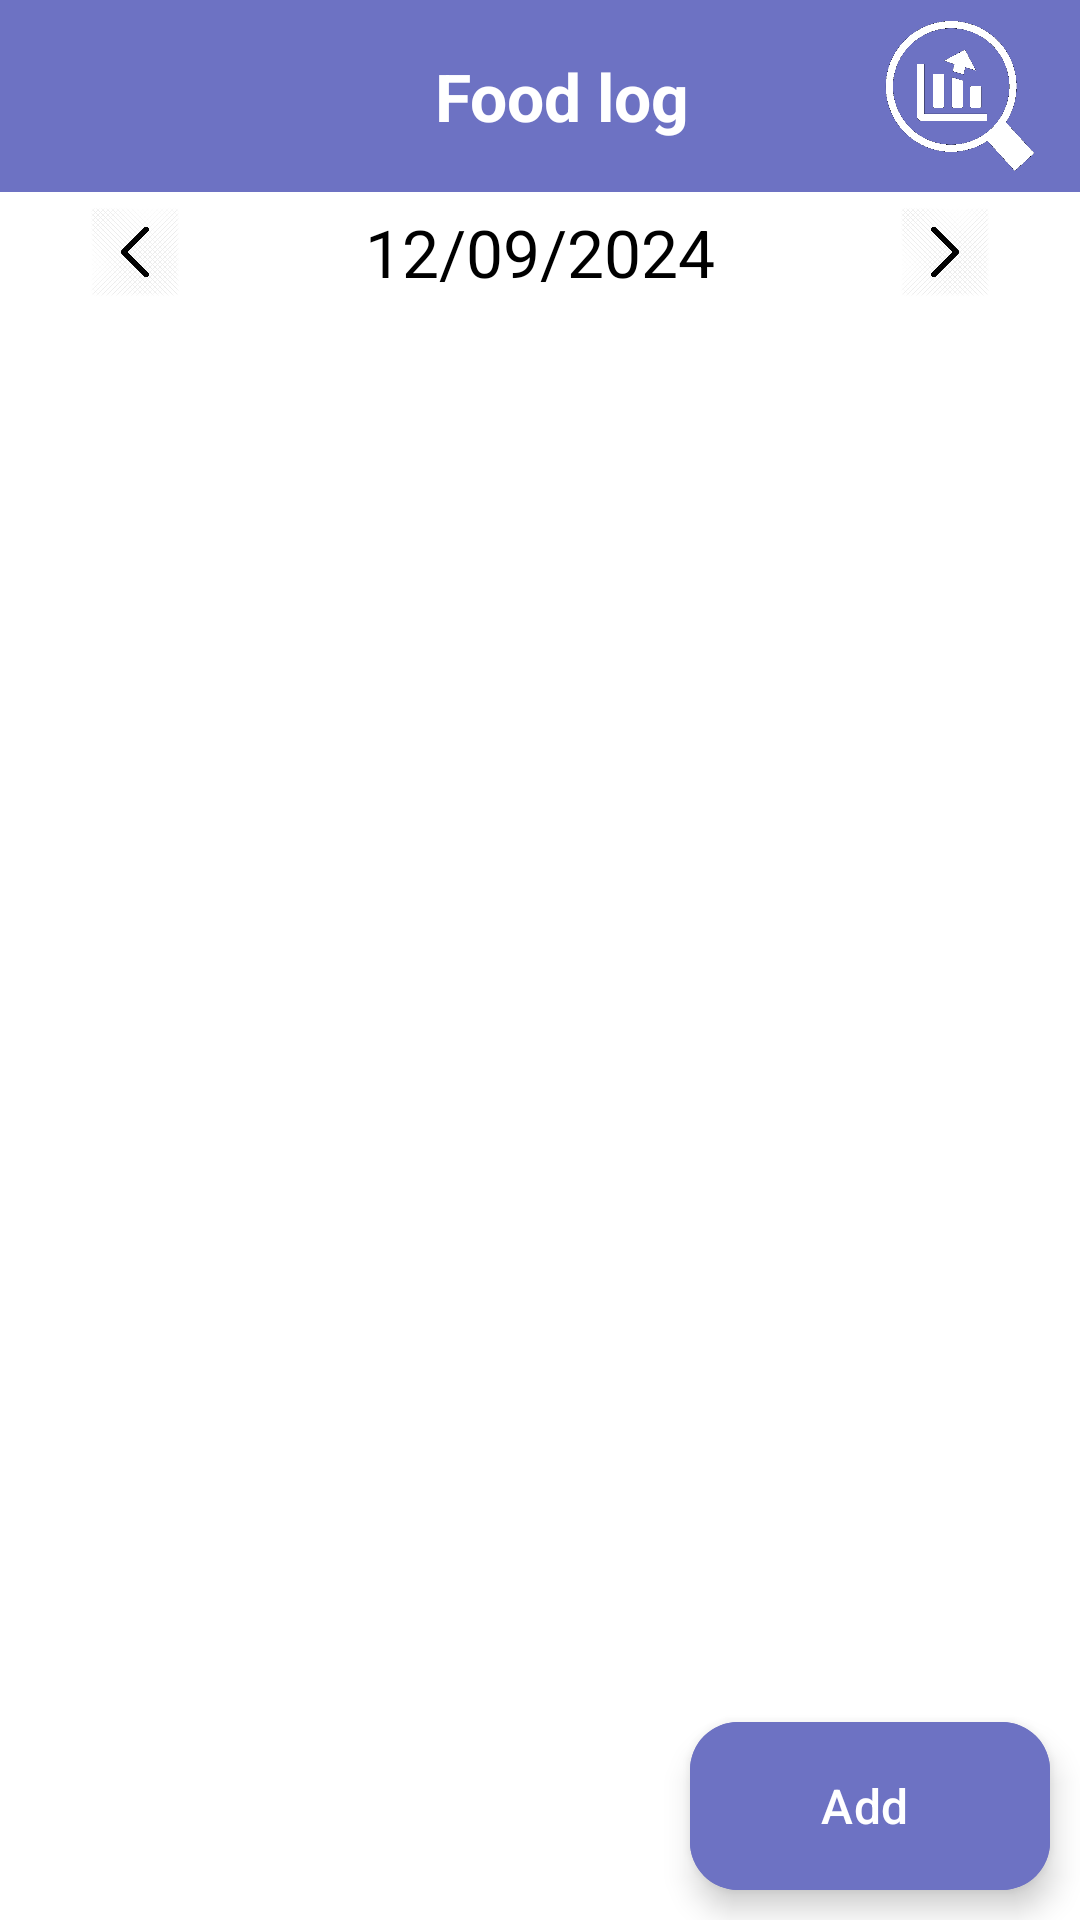

Named icons in this screenshot (1080px×1920px) and their bounding boxes, (x1, y1, x2, y2):
navigation left: (121, 227, 149, 277)
navigation right: (931, 227, 959, 277)
